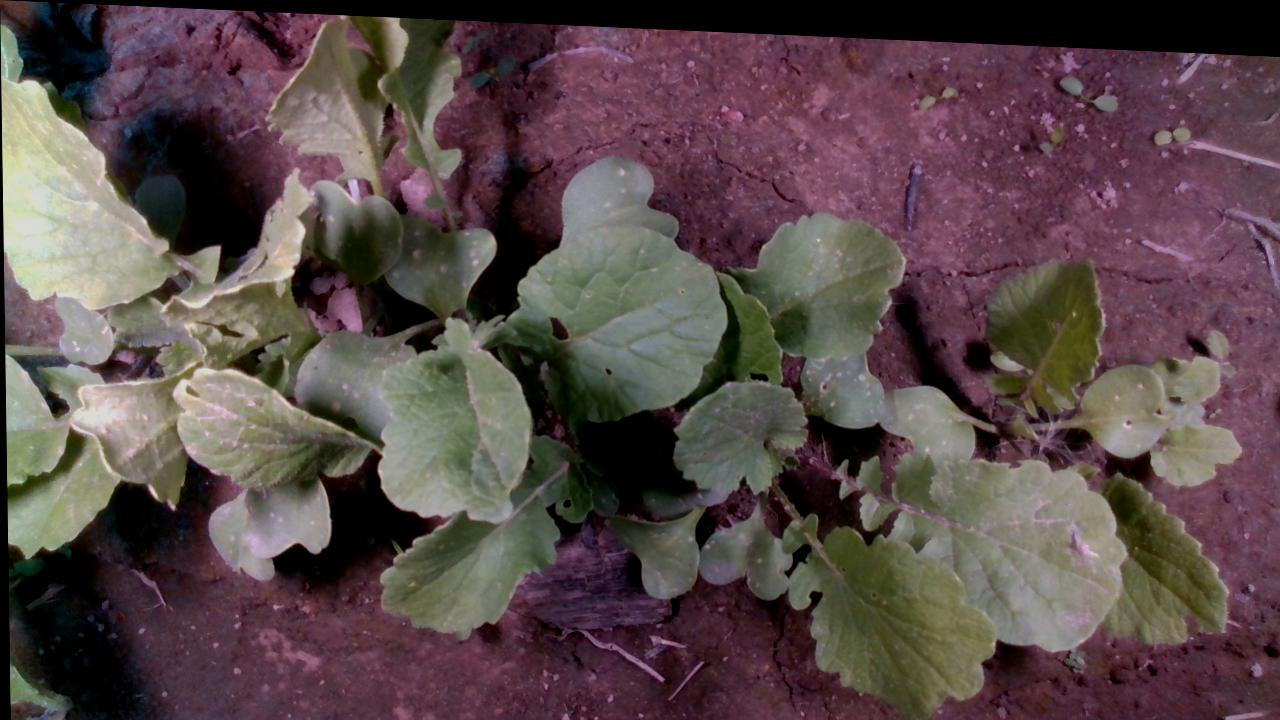weed: (1049, 64, 1123, 103)
